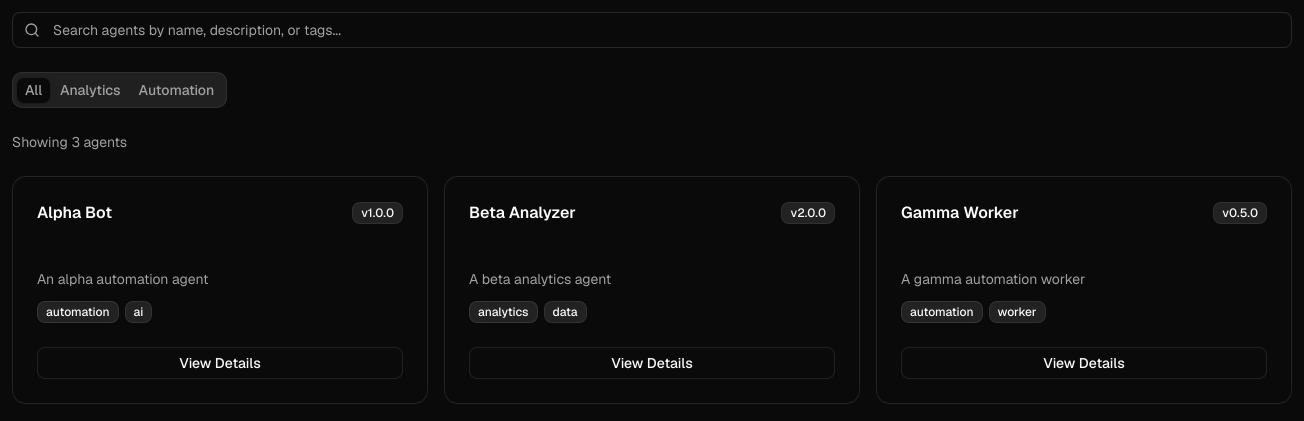
Scenario: RegistryContent › filters agents by tag (search by 'ai' shows only Alpha Bot)
The image size is (1304, 421).
Type "ai" into the field with placeholder "Search agents by name, description, or tags...". click: (652, 30)
box: [12, 12, 1292, 48]
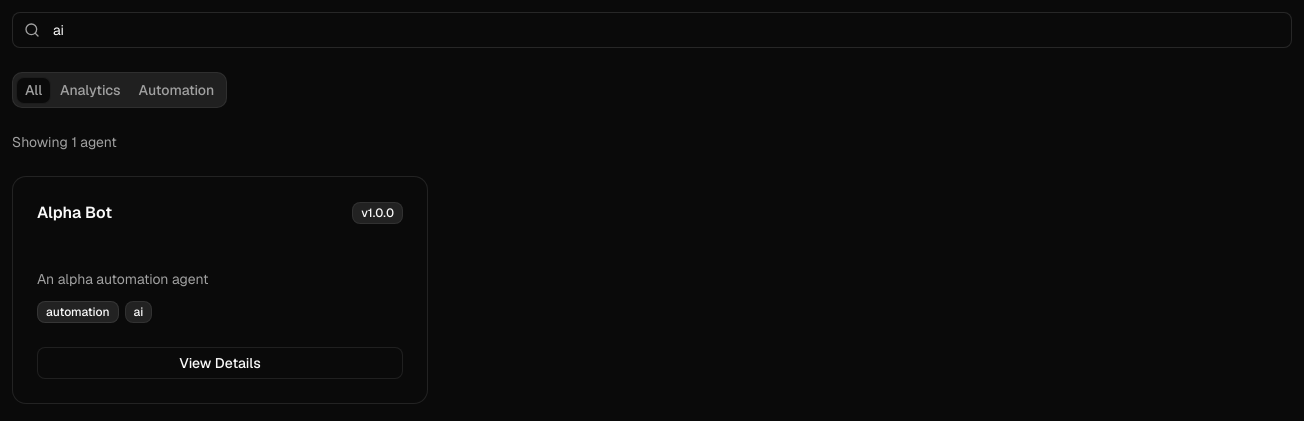
Check: the text "Beta Analyzer" is gone
Check: the text "Gamma Worker" is gone
Check: the text "Showing 1 agent" is shown, box [12, 133, 117, 151]
